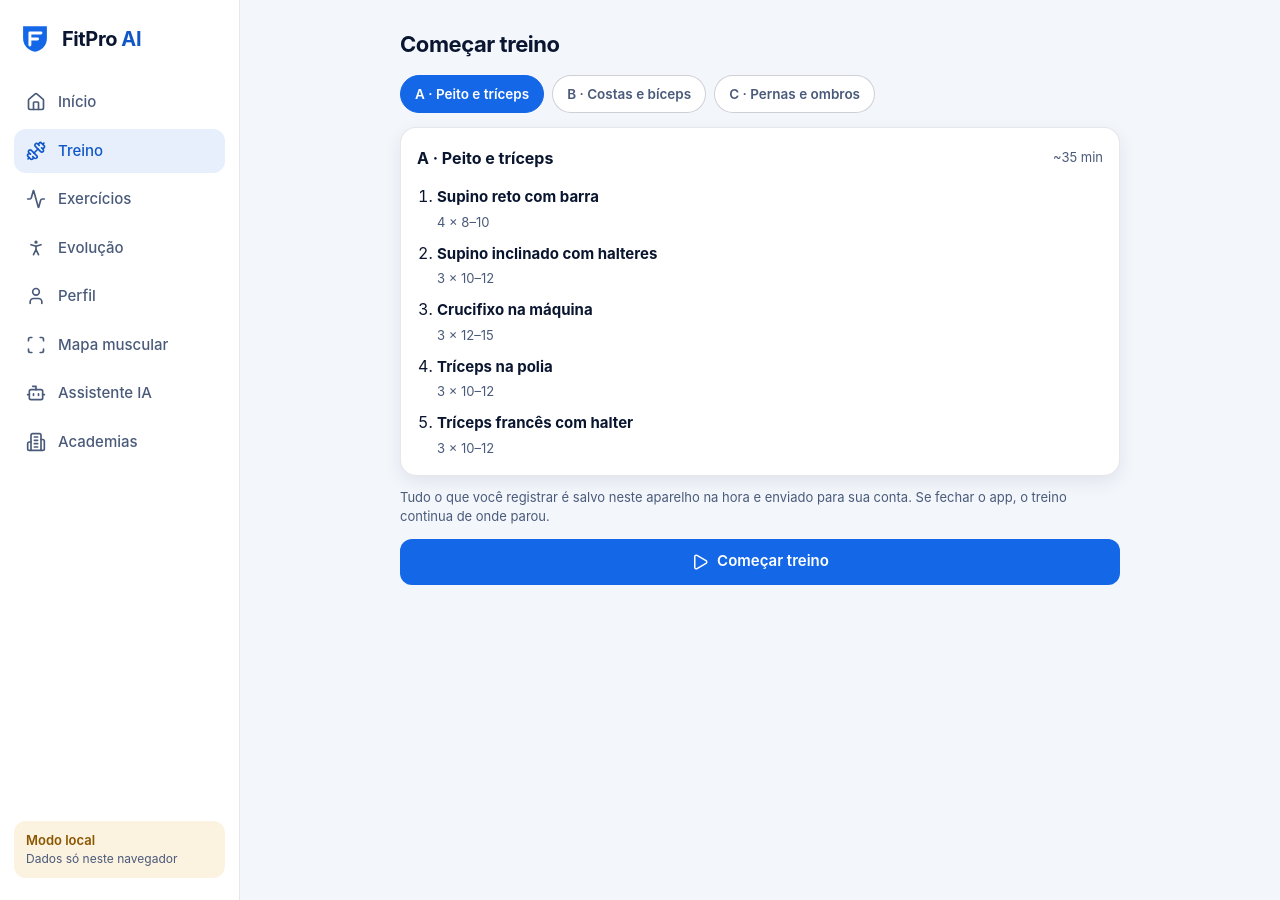
it: modo treino › não conclui série sem repetições
The image size is (1280, 900).
Step 1. Click the button "Começar treino" → coordinates (760, 562), box [400,538,1120,584]
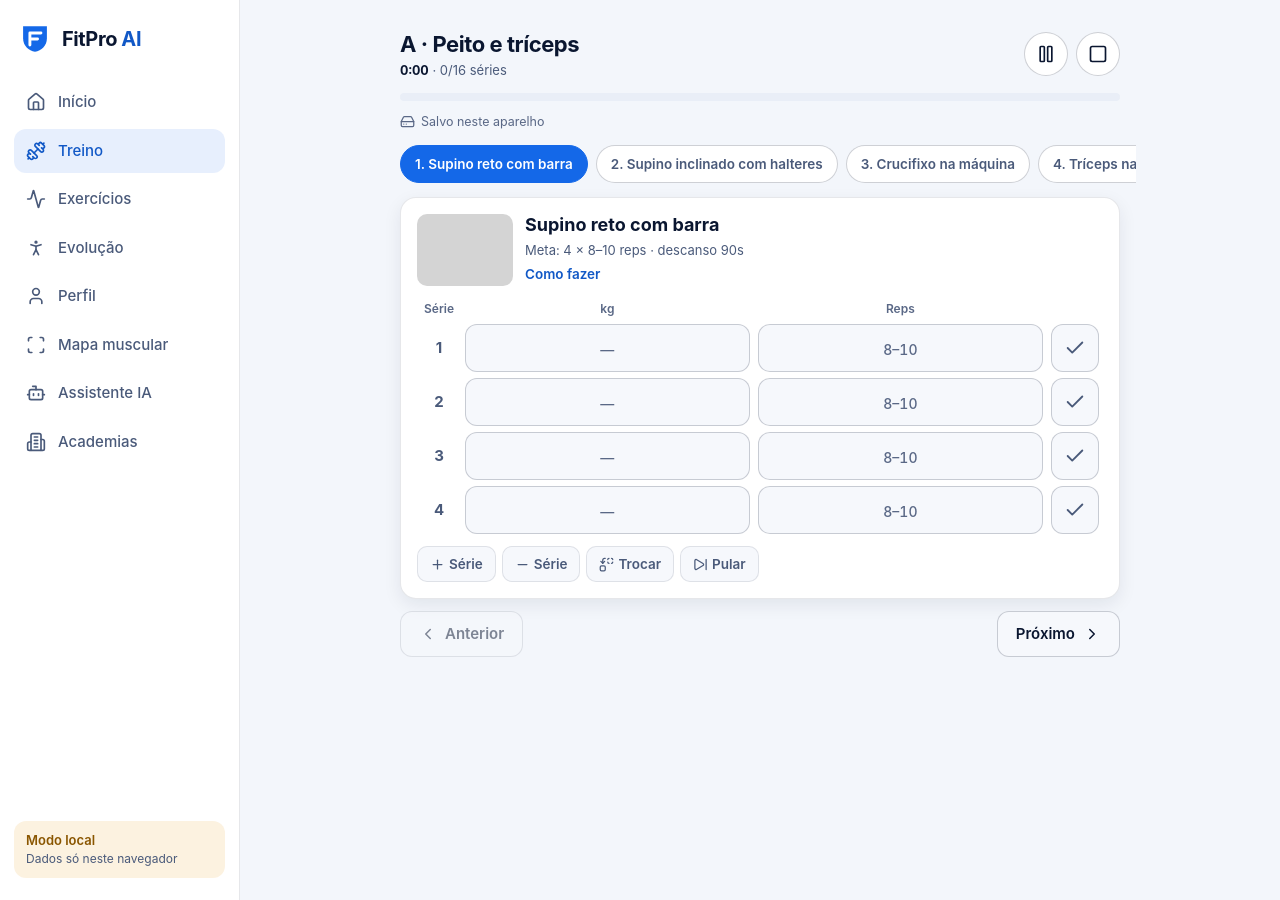
Step 2. Click the button named "Concluir série 1" → coordinates (1075, 348), box [1051,324,1099,372]
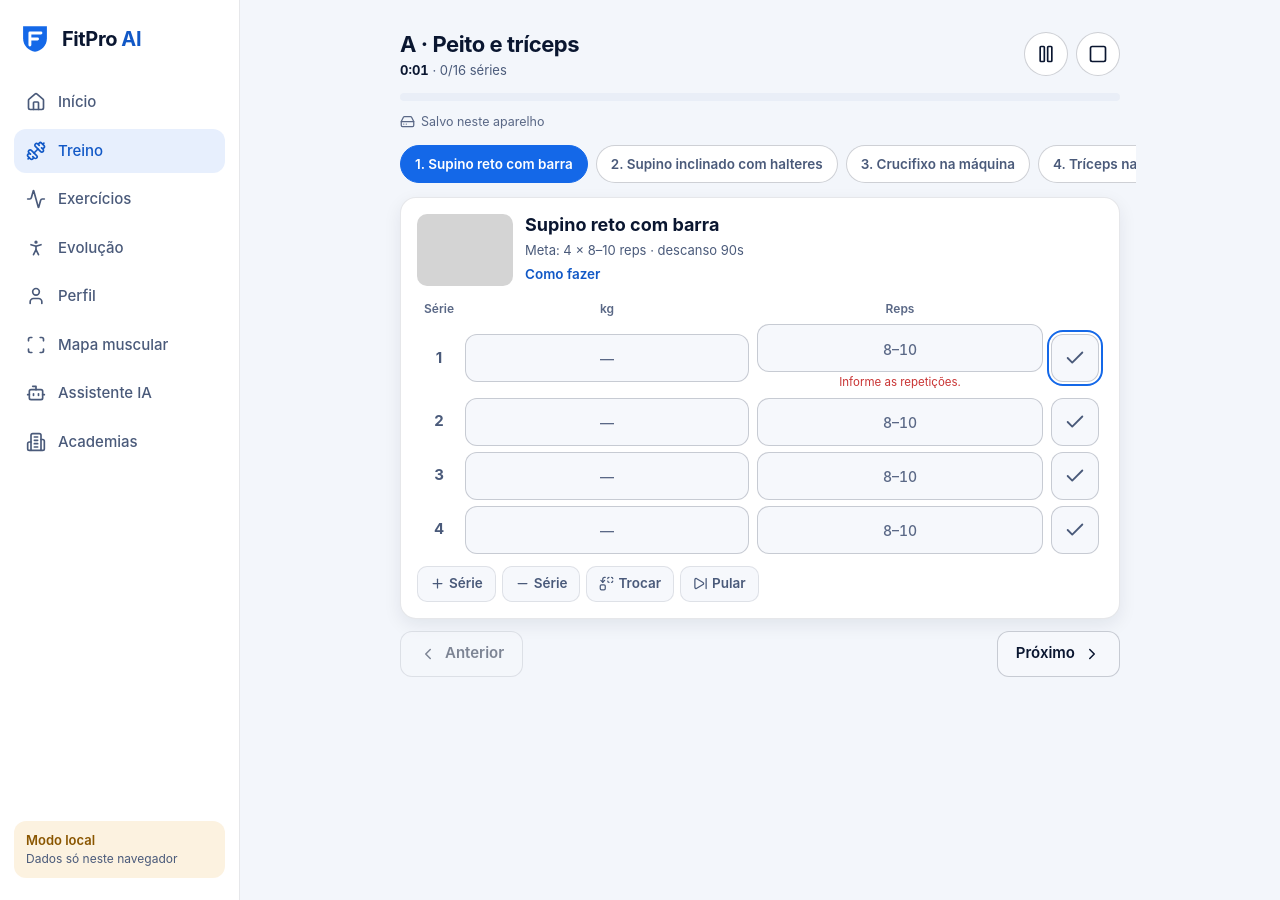
Expected: the text "Informe as repetições." is shown, [839,375,961,389]
